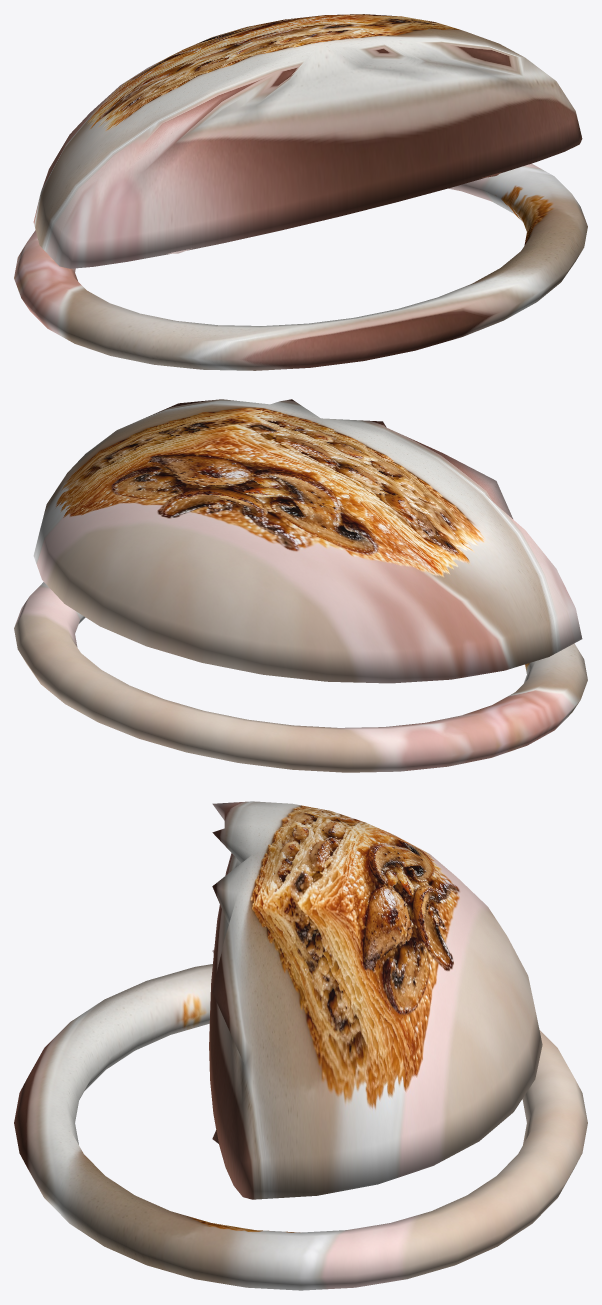
Rendered from prop_savory_mushroom.glb.
The picture shows the model from 3 angles, top to bottom: view 1: azimuth 30°, elevation 25°; view 2: azimuth 150°, elevation 25°; view 3: azimuth 270°, elevation 25°; orthographic projection. The views are drawn at different scales.
Visible parts, largest first — view 1: prop_savory_mushroom; view 2: prop_savory_mushroom; view 3: prop_savory_mushroom.
Boxes of the visible parts, bbox=[...] form: prop_savory_mushroom: bbox=[14, 14, 587, 370]; prop_savory_mushroom: bbox=[14, 399, 587, 772]; prop_savory_mushroom: bbox=[14, 801, 587, 1290].
Size of the model in its own units: 0.1513 by 0.0668 by 0.1184.
2 materials, 2 textured.
